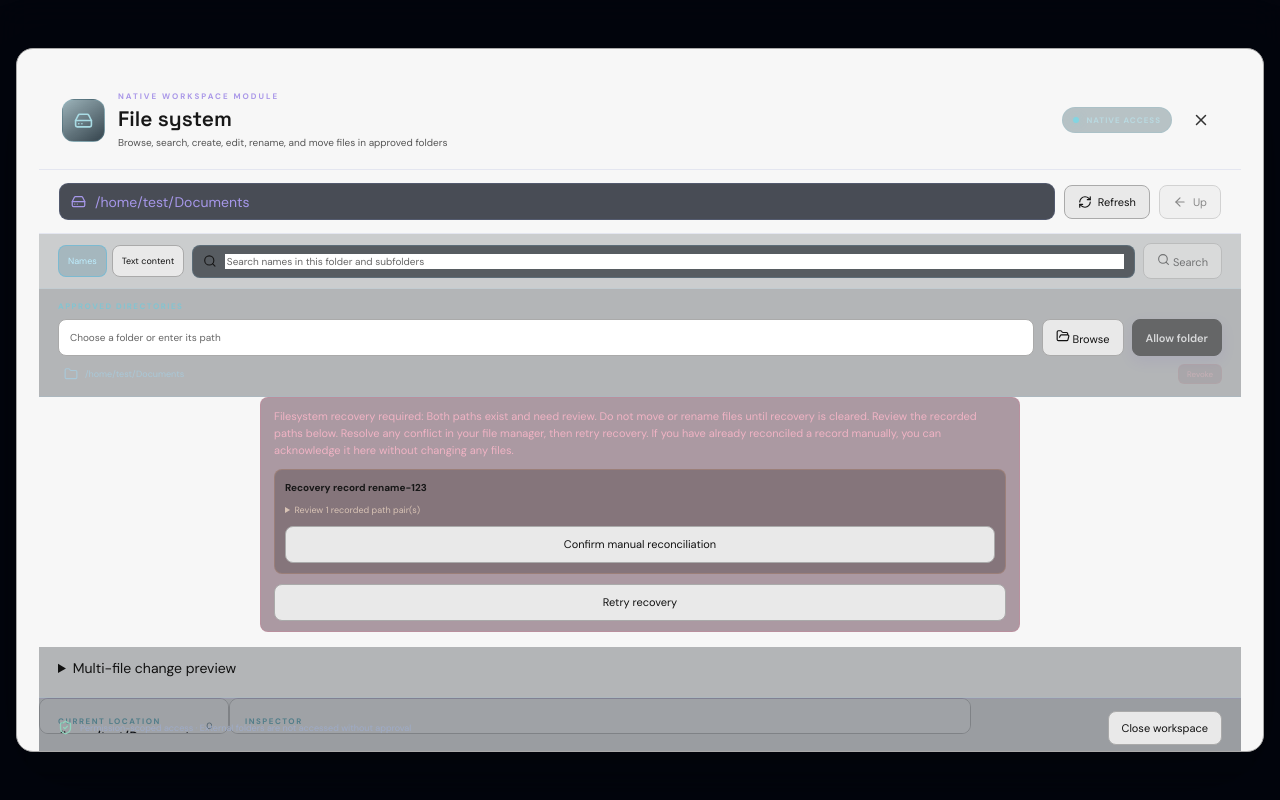
Test case: FileSystemPanel native workspace access › shows recovery paths and acknowledges manual reconciliation without changing files
This screenshot has width=1280, height=800.
Click the button "Confirm manual reconciliation" at (640, 544), box [285,526,995,563]
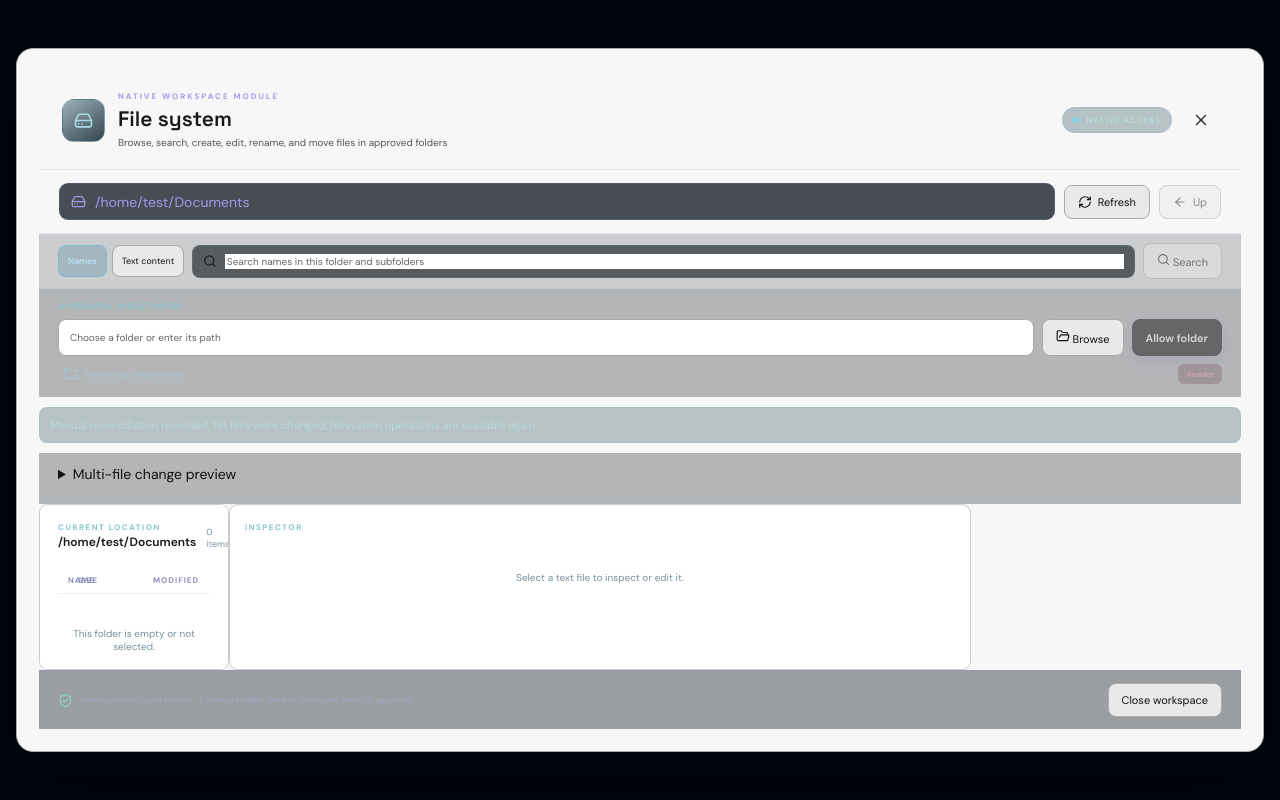
expect the text "Filesystem recovery required" is gone: met
expect the text "Manual reconciliation recorded" is shown: met, box [50,418,538,432]
